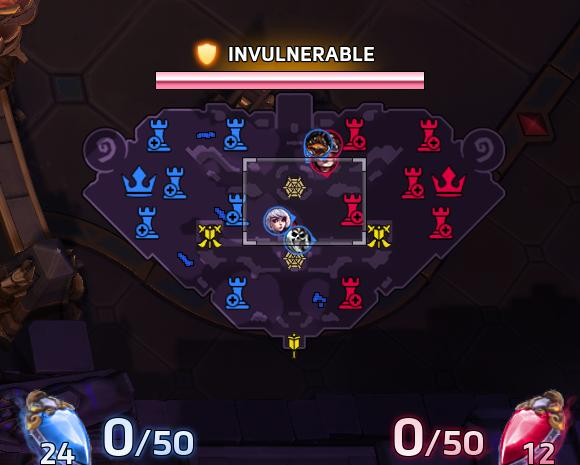blue nexus: (120, 164, 157, 197)
blue player: (303, 129, 334, 164), (283, 225, 313, 255), (263, 206, 294, 235)
blue tower: (217, 191, 249, 227), (223, 275, 250, 309), (222, 116, 248, 151), (134, 204, 160, 239), (162, 165, 188, 199), (146, 117, 171, 152)
red nexus: (430, 165, 466, 197)
red player: (309, 149, 340, 177), (322, 130, 342, 158)
red tower: (427, 205, 453, 239), (400, 165, 426, 199), (337, 275, 363, 309), (416, 118, 441, 152), (339, 192, 363, 226), (343, 117, 367, 151)
